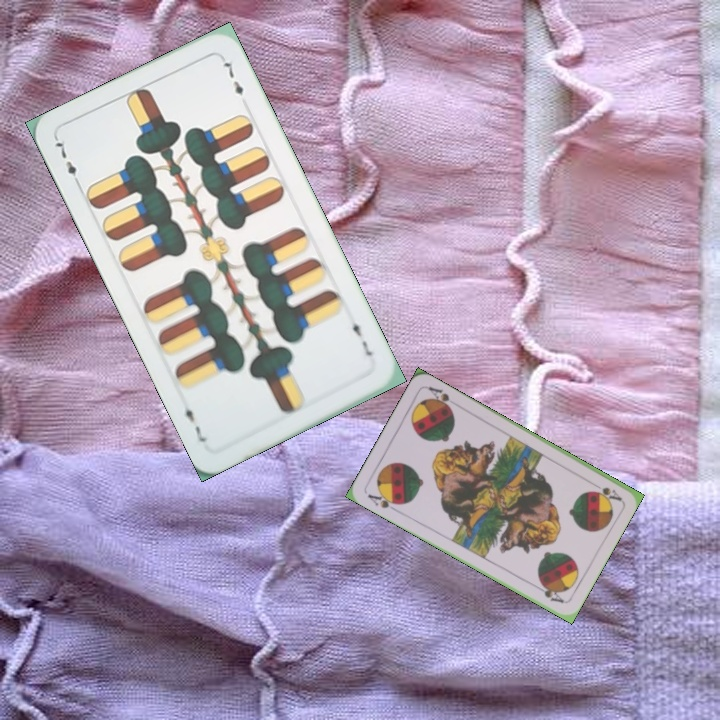E7: (51, 134, 84, 190), (348, 312, 375, 359)
SA: (363, 488, 404, 514), (587, 477, 624, 503)
